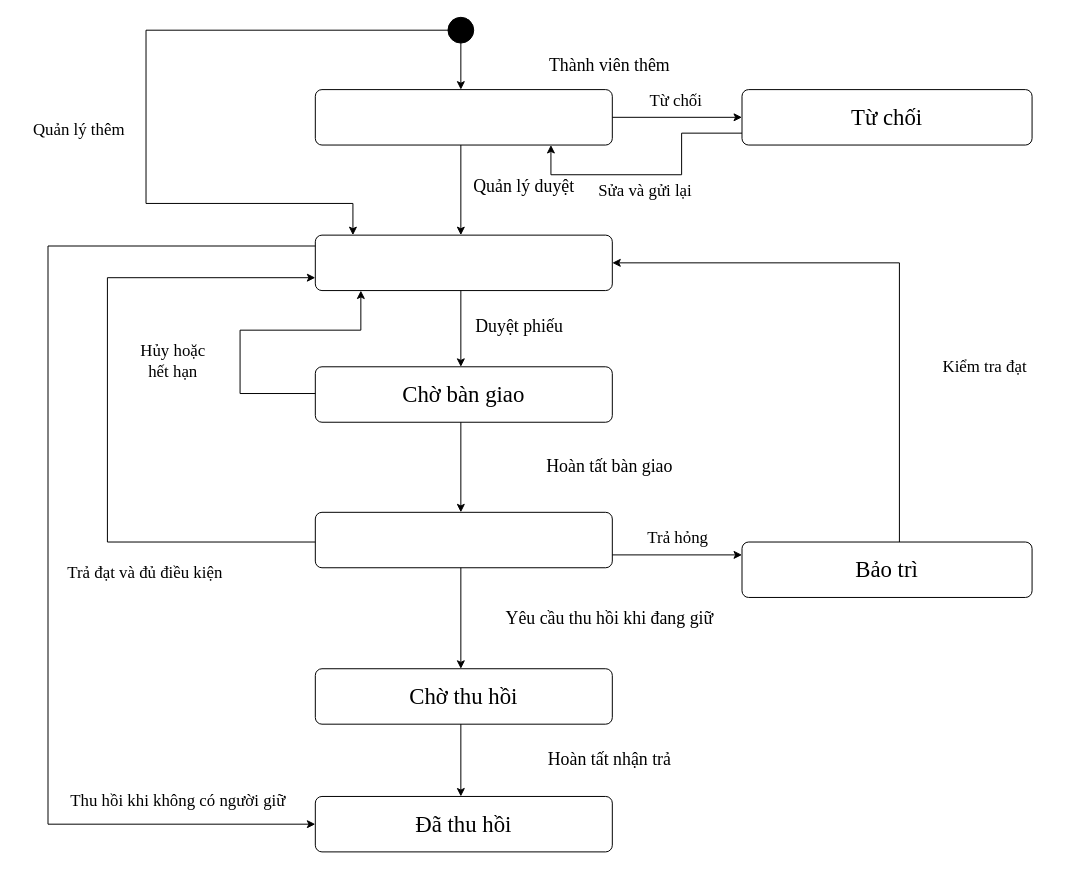
The diagram is 1081 pixels wide and 869 high, and some of its shapes have lost their labels. Here are the shapes that lost their labels. From the top down, the centre of each, then its label:
At point (463, 117): "Chờ duyệt".
At point (463, 262): "Đang chia sẻ".
At point (463, 539): "Đã được mượn".
